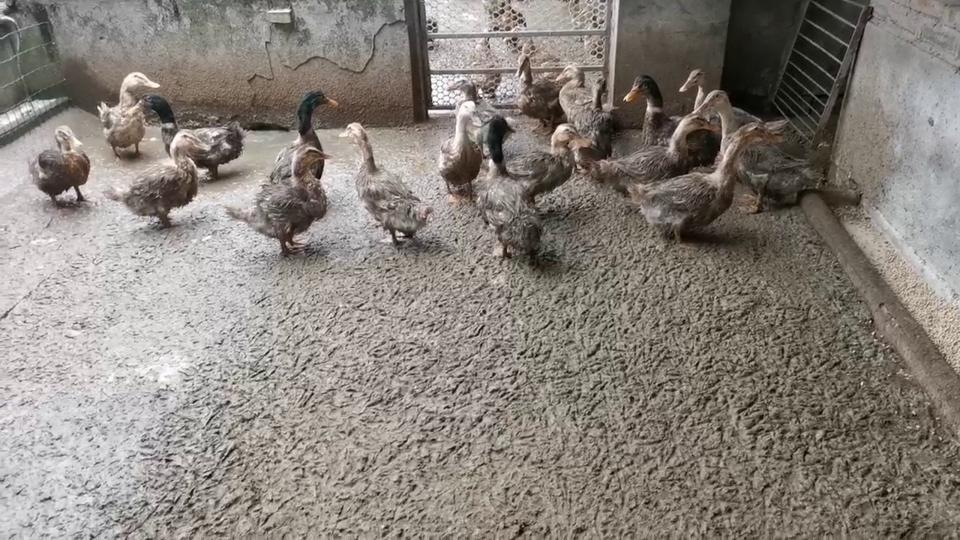duck: (638, 120, 780, 244), (701, 89, 836, 217), (474, 111, 554, 265), (338, 122, 435, 249), (242, 151, 340, 258), (602, 108, 719, 197), (135, 91, 245, 184), (116, 127, 211, 232), (625, 73, 721, 163), (269, 86, 338, 188), (439, 97, 489, 205), (33, 129, 98, 212), (102, 74, 158, 163), (571, 75, 616, 177), (453, 79, 513, 150), (515, 58, 575, 124), (555, 65, 603, 133), (463, 24, 508, 93), (668, 65, 729, 106), (507, 27, 569, 66), (575, 7, 607, 63), (495, 1, 524, 30)
